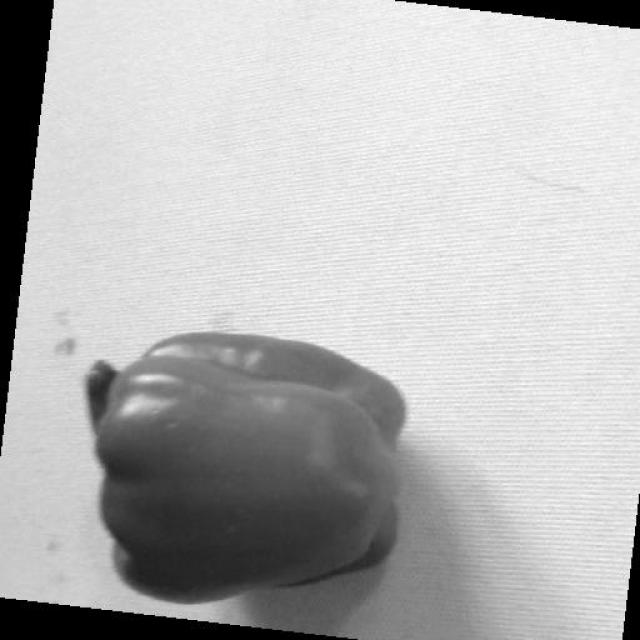Fresh_Capsicum: (78, 295, 414, 615)
